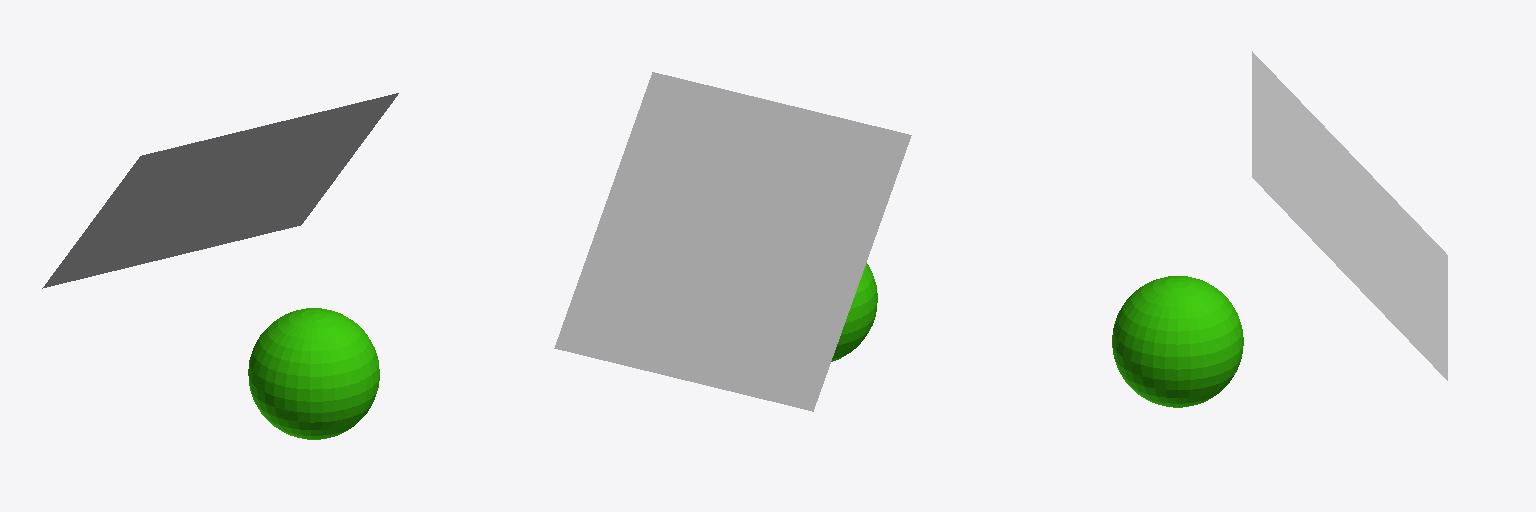
Rendered from big_sphere.obj.
The picture shows the model from 3 angles: view 1: azimuth 30°, elevation 25°; view 2: azimuth 150°, elevation 25°; view 3: azimuth 270°, elevation 25°; orthographic projection.
Parts seen in each view (by area): view 1: Plane, Sphere; view 2: Plane, Sphere; view 3: Plane, Sphere.
Part boxes in pixels (x1,y1,x2,y2): Plane: (42, 93, 398, 288); Sphere: (248, 308, 379, 439); Plane: (554, 72, 911, 411); Sphere: (831, 263, 877, 361); Plane: (1252, 51, 1447, 380); Sphere: (1112, 276, 1243, 407).
Bounding box in the file's own units: 21.17 × 22.18 × 23.79.